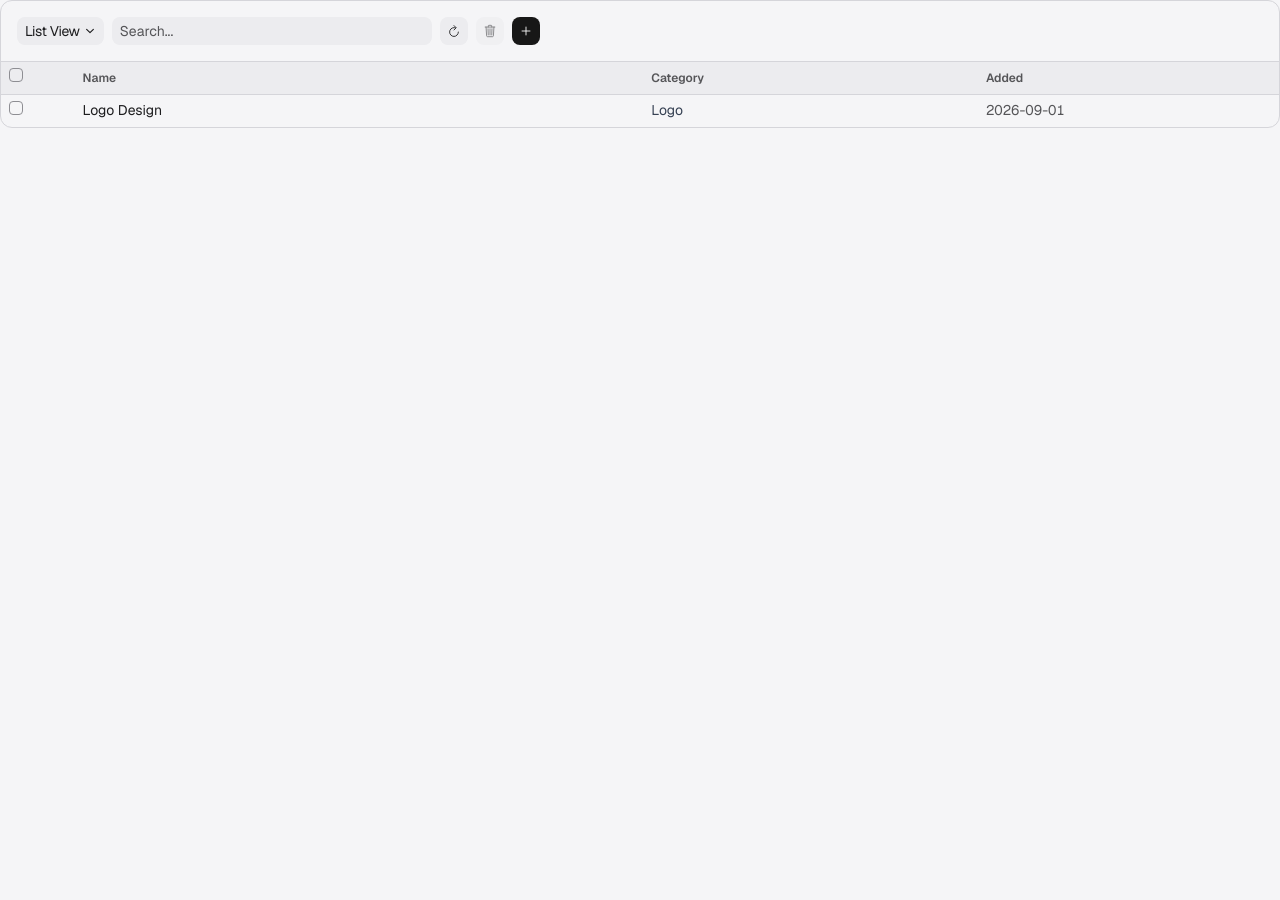
Scenario: DesignRepository — the repository has no view modal › never renders a design view dialog from a row click
What coordinates should you click on to do the following:
click the text "Logo Design"
I would click on:
 (122, 111)
Its box is x1=75 y1=94 x2=643 y2=127.
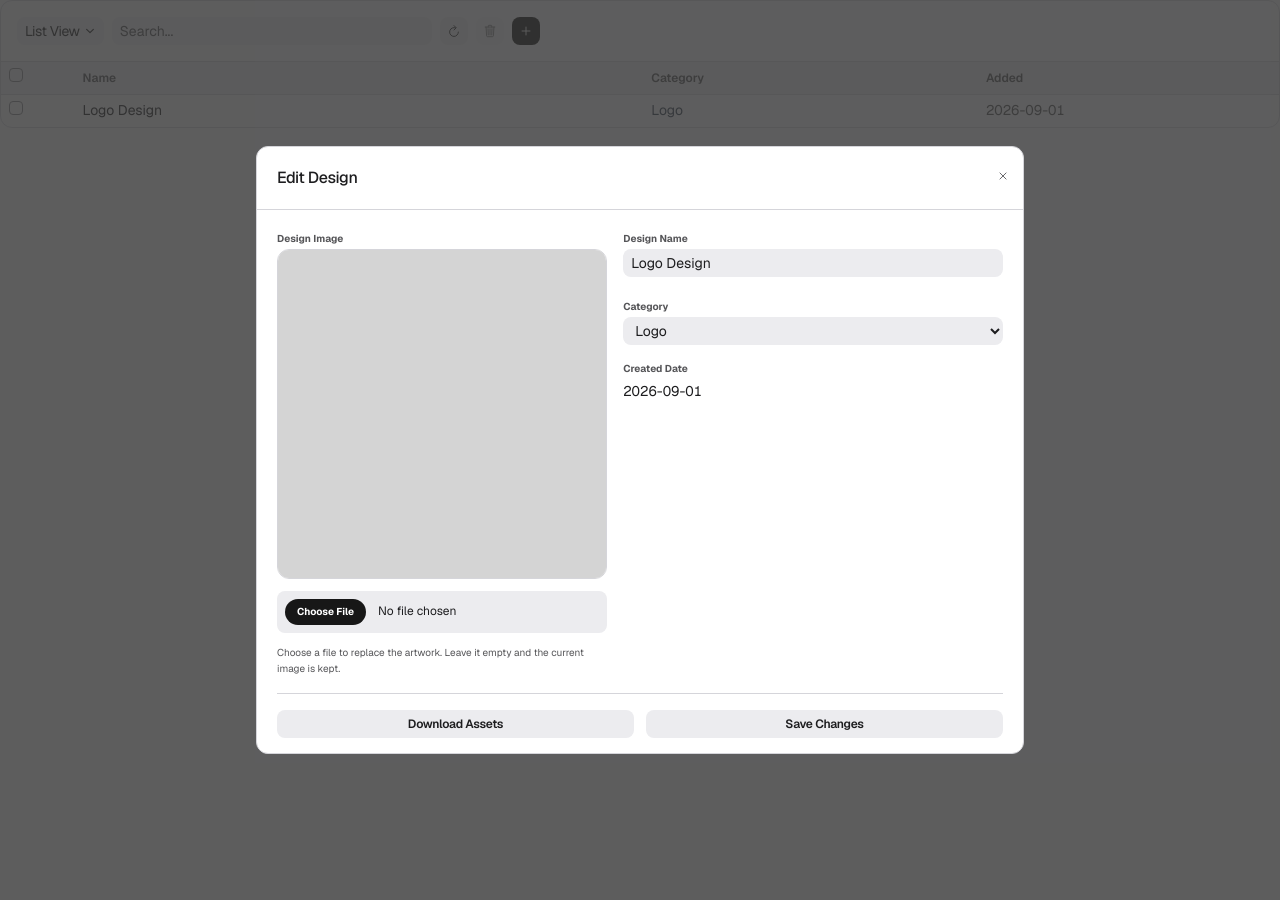
Expected: the dialog "Edit Design" is shown, x1=256 y1=146 x2=1024 y2=754
